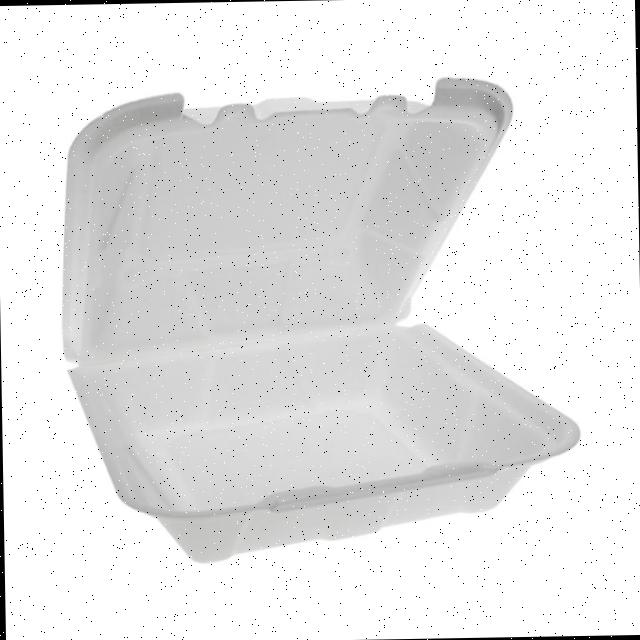styrofoam: (55, 72, 582, 566)
